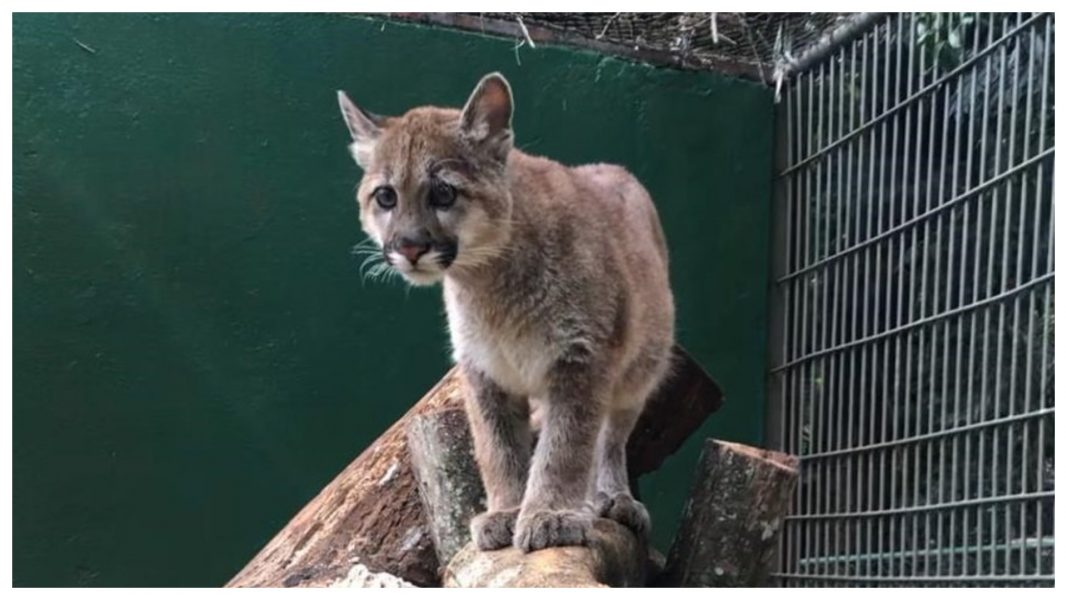OncaParda: (313, 69, 682, 557)
